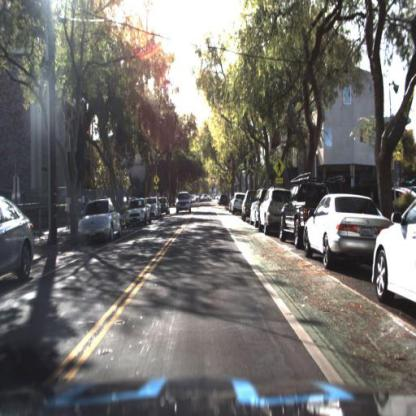car: (302, 191, 391, 268), (372, 198, 416, 310), (279, 176, 336, 249), (2, 196, 37, 289), (76, 195, 124, 244), (259, 186, 289, 238), (124, 197, 149, 233), (250, 184, 266, 227), (241, 186, 257, 227), (175, 190, 195, 217), (229, 192, 245, 217), (149, 194, 163, 222), (176, 195, 192, 216)
